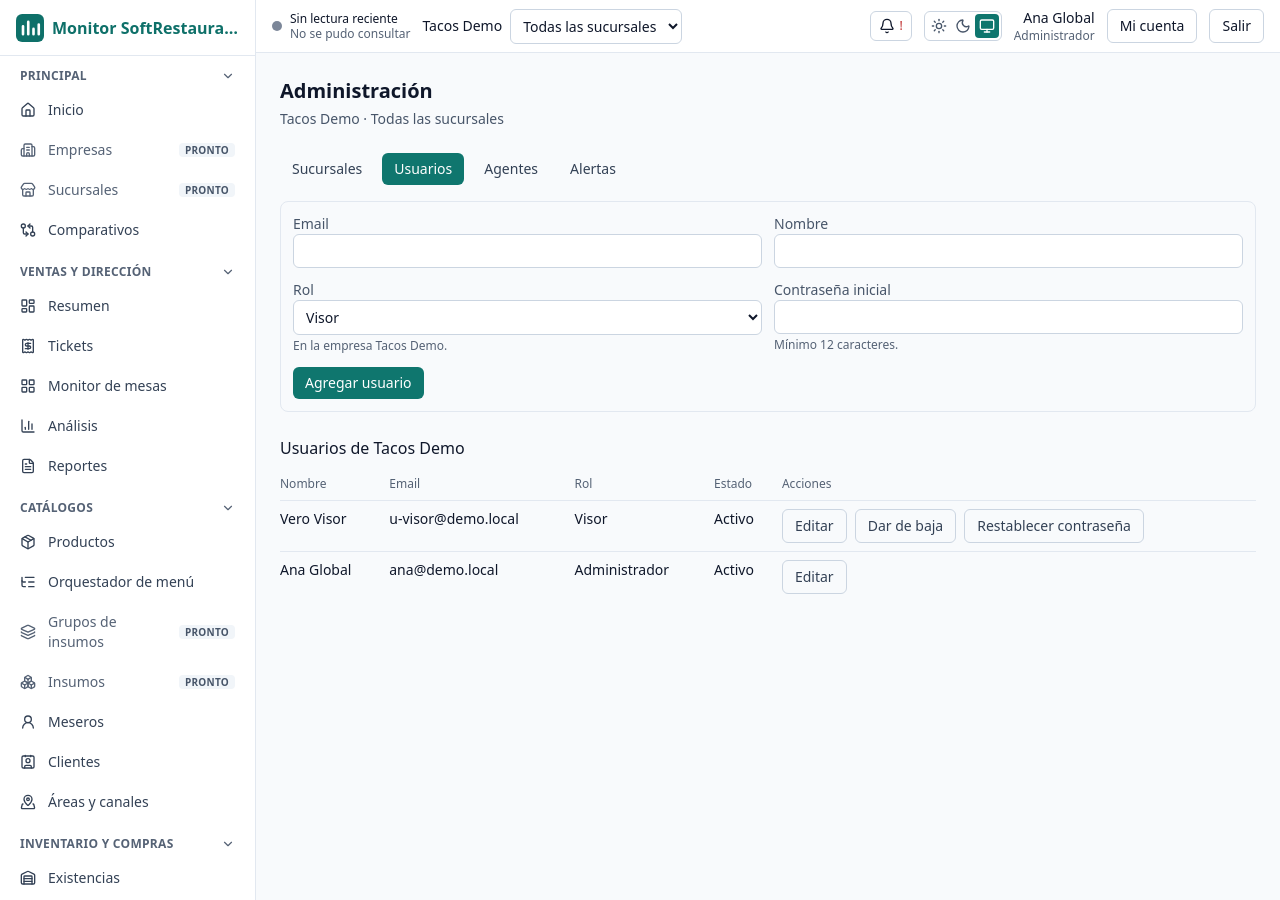
Test: Usuarios › uno mismo: sin "Dar de baja" ni "Restablecer contraseña", y con el rol bloqueado al editar
Click the button "Editar" in the row of "ana@demo.local" at (814, 577), box [782,560,847,594]
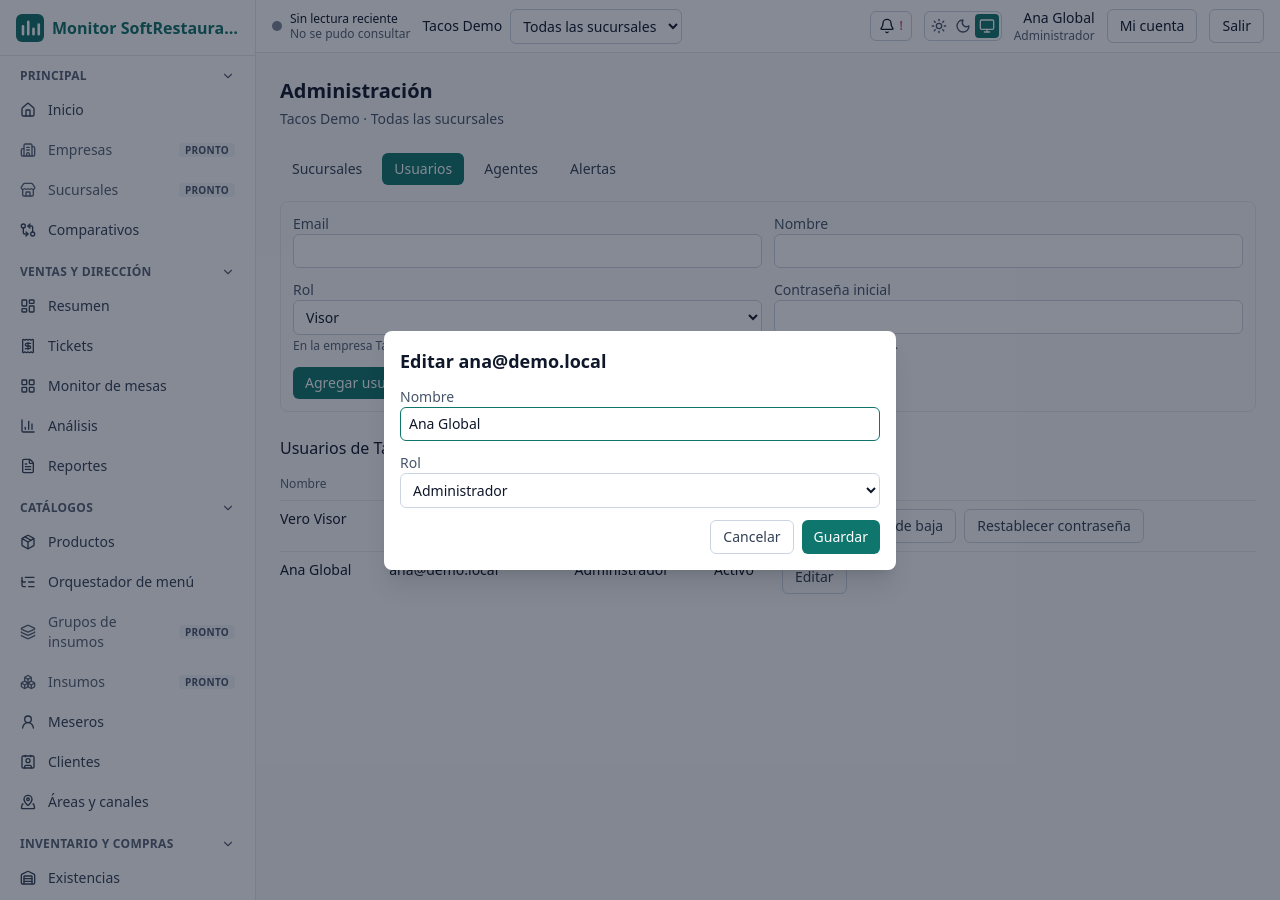
Result: the dropdown labelled "Rol" is disabled at [400,472,880,508]
